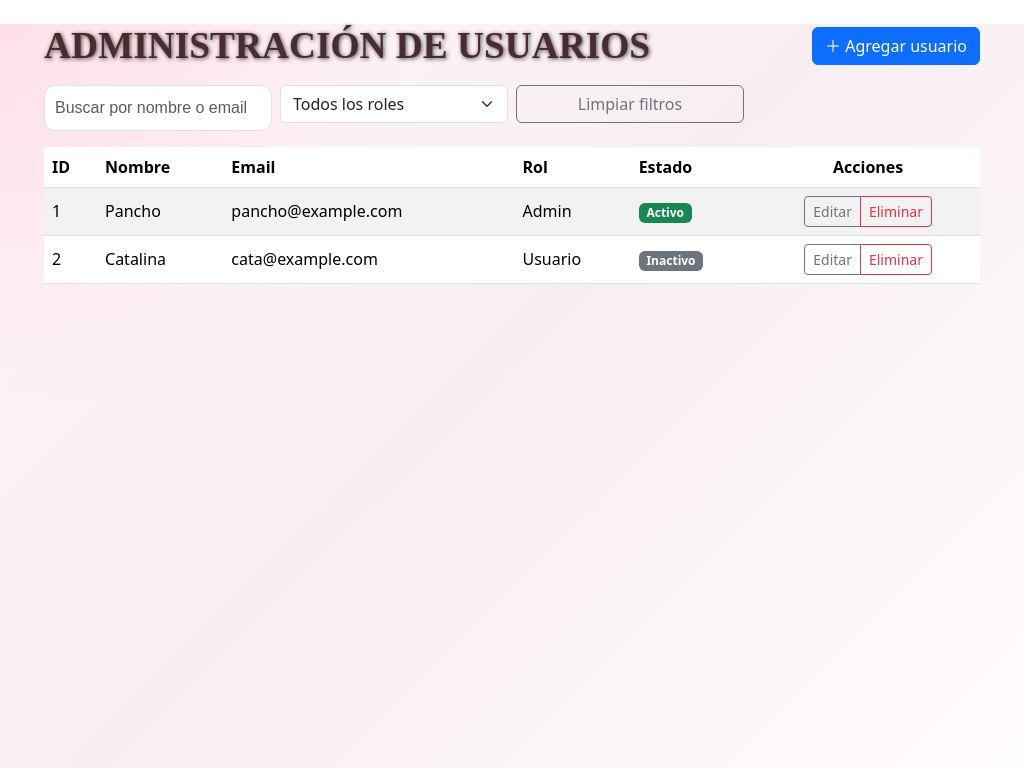
Usuario component › filtra por rol
Check: the text "Pancho" is shown, box [97,187,223,235]
Select "Admin" in the dropdown at (394, 104), box [280,85,508,123]
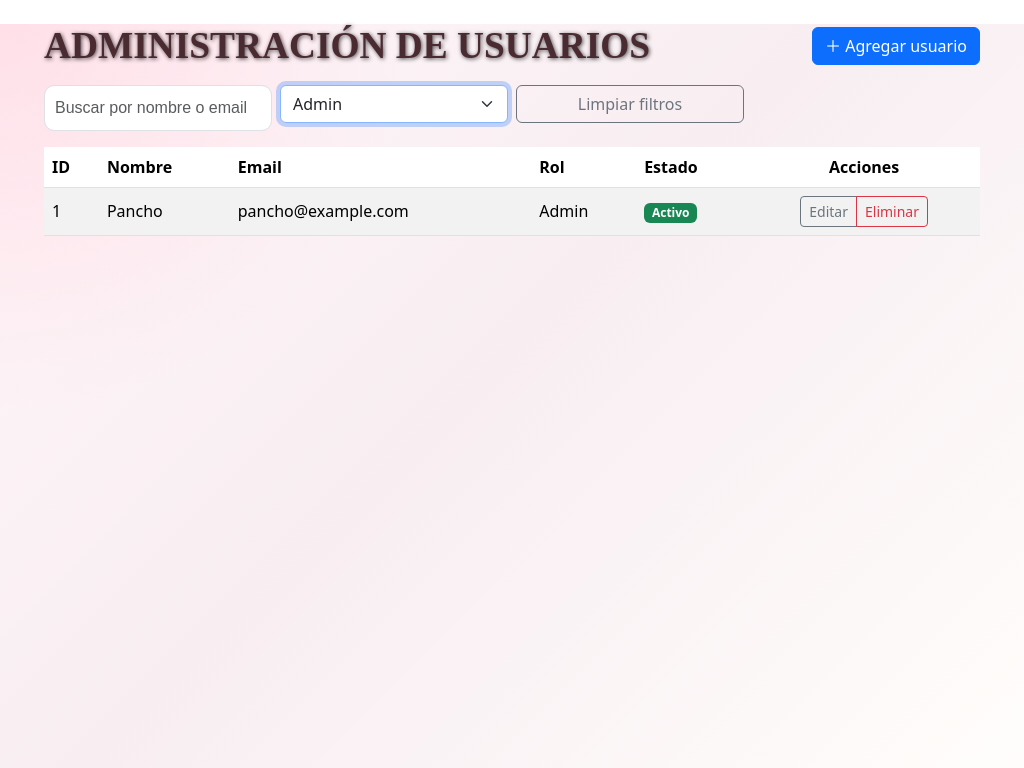
Check: the text "Pancho" is shown, box [99,187,230,235]
Check: the text "Catalina" is gone
